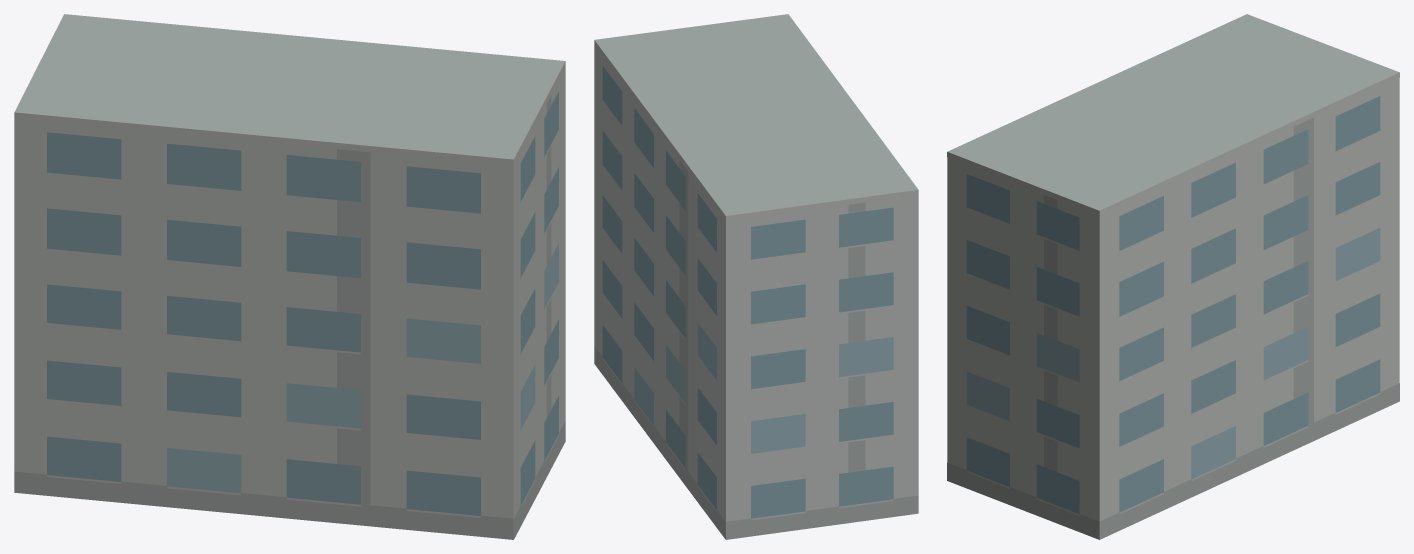
Rendered from survey-upis-32947198.glb.
The picture shows the model from 3 angles, left to right: view 1: azimuth 30°, elevation 25°; view 2: azimuth 150°, elevation 25°; view 3: azimuth 270°, elevation 25°; orthographic projection. The views are drawn at different scales.
Visible parts, largest first — view 1: survey-upis-32947198.tmp; view 2: survey-upis-32947198.tmp; view 3: survey-upis-32947198.tmp.
Part boxes in pixels (box(x1,y1,x2,y2)): survey-upis-32947198.tmp: box(14, 14, 565, 539); survey-upis-32947198.tmp: box(594, 14, 918, 539); survey-upis-32947198.tmp: box(947, 14, 1399, 539).
Bounding box in the file's own units: 18.66 × 14.55 × 18.14.
